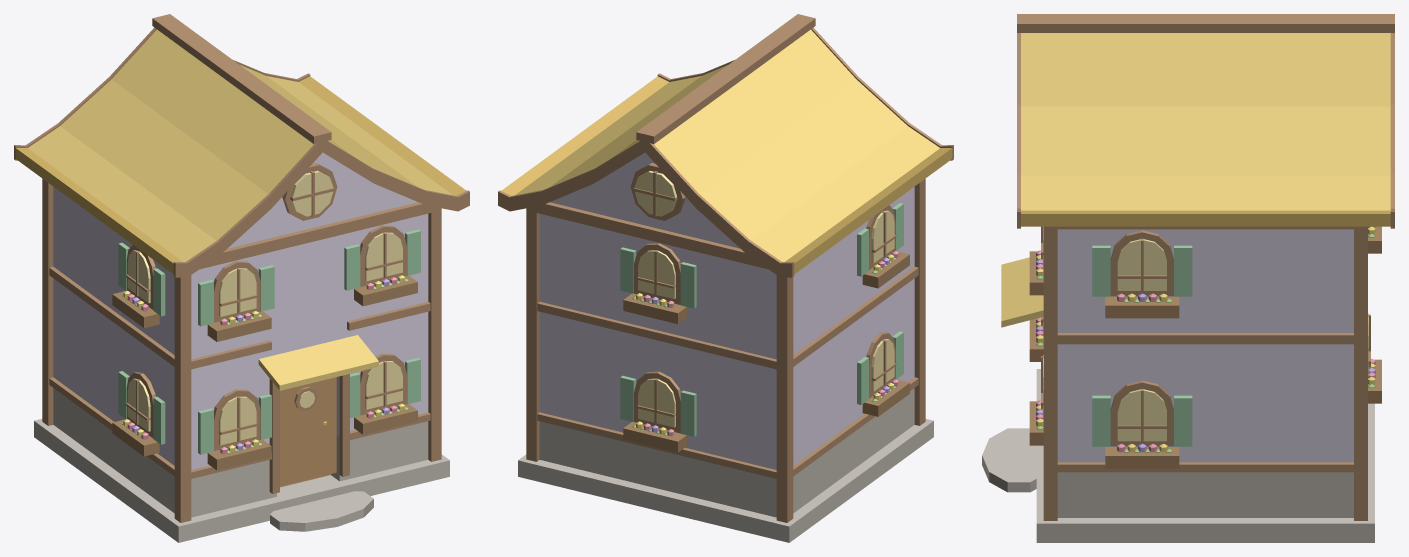
The model's file is townhouse.glb.
3 views of the same model, side by side, from view 1: azimuth 30°, elevation 25°; view 2: azimuth 150°, elevation 25°; view 3: azimuth 270°, elevation 25° (orthographic). The views are drawn at different scales.
Parts seen in each view (by area): view 1: Player; view 2: Player; view 3: Player.
Boxes of the visible parts, box(x1,y1,x2,y2) form: Player: box(14, 14, 469, 542); Player: box(498, 14, 953, 542); Player: box(982, 14, 1394, 542).
Bounding box in the file's own units: 5.64 × 6.99 × 5.85.
